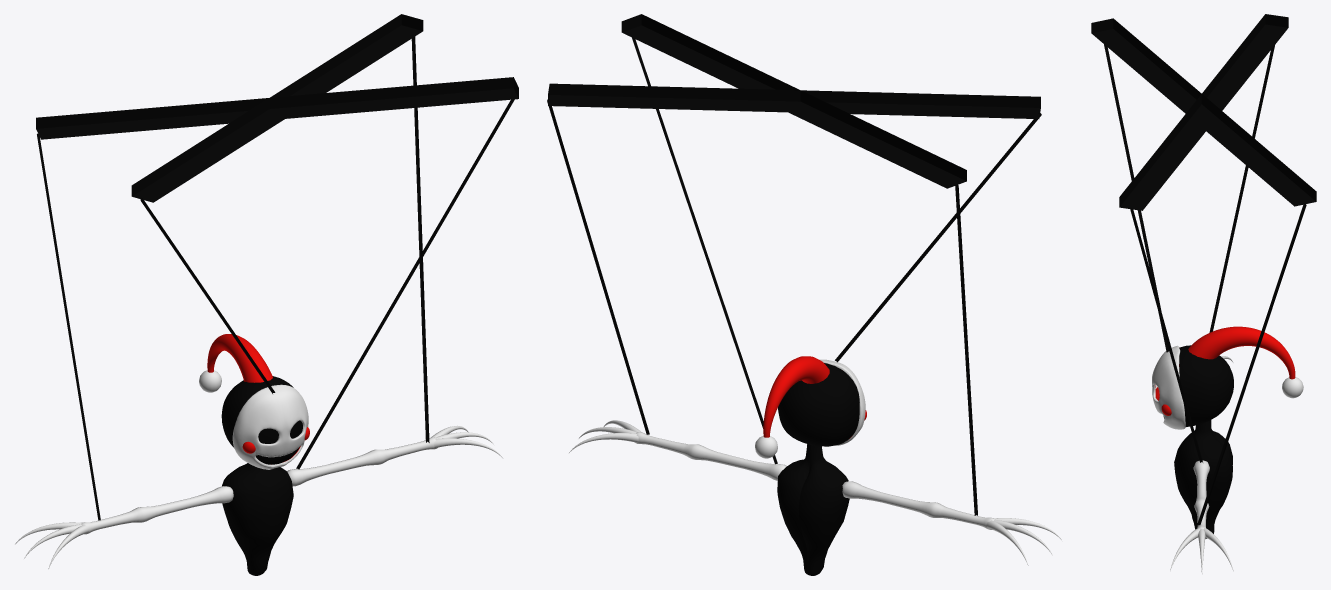
The model's file is marionetka.fbx.
The picture shows the model from 3 angles, left to right: view 1: azimuth 30°, elevation 25°; view 2: azimuth 150°, elevation 25°; view 3: azimuth 270°, elevation 25°; orthographic projection. The views are drawn at different scales.
Visible parts, largest first — view 1: марионетка.001; view 2: марионетка.001; view 3: марионетка.001.
Part boxes in pixels (x1,y1,x2,y2): марионетка.001: [15, 14, 518, 575]; марионетка.001: [547, 14, 1061, 575]; марионетка.001: [1091, 14, 1316, 573].
Bounding box in the file's own units: 303 × 288 × 134.
